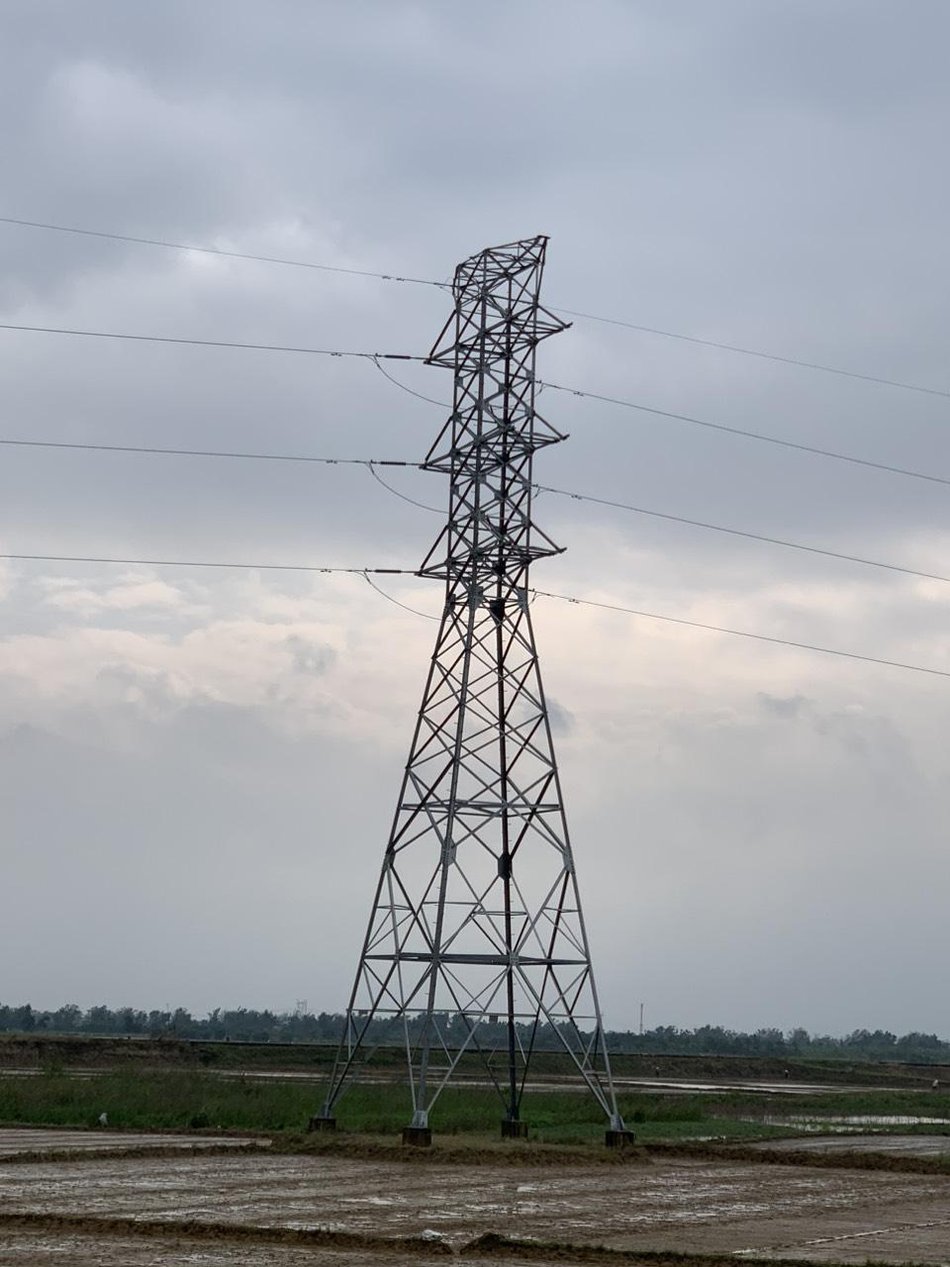power_tower: (327, 212, 629, 1126)
